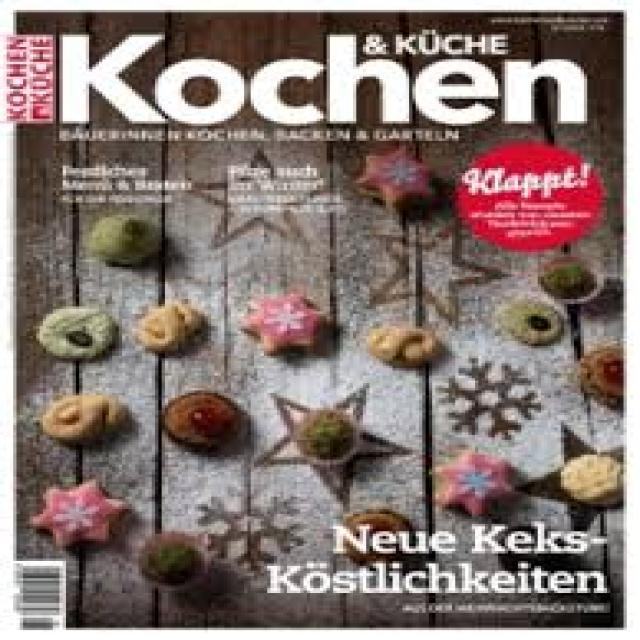Newspaper: (2, 0, 640, 640), (2, 0, 640, 318)
